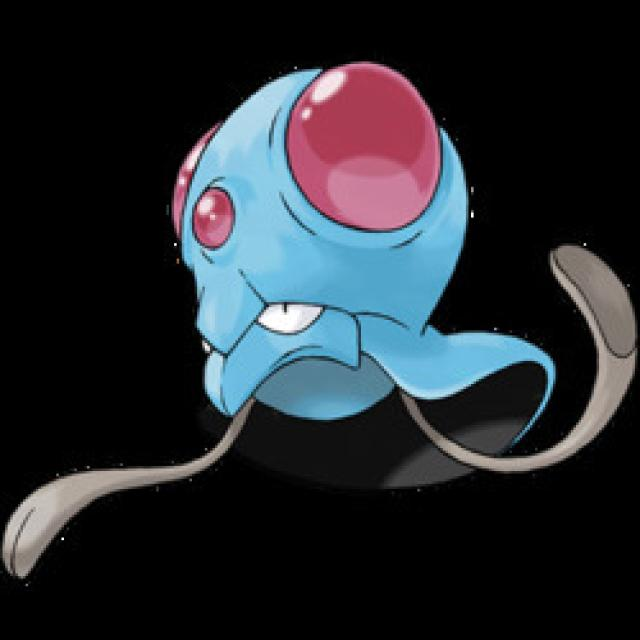Tentacool: (151, 46, 573, 523)
